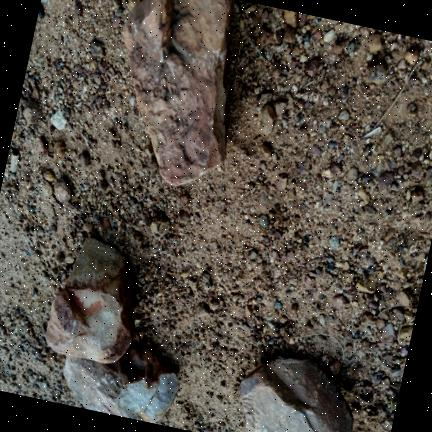Rocks: (123, 0, 232, 184), (45, 237, 134, 362), (63, 341, 178, 422), (240, 355, 352, 431), (260, 103, 275, 134), (365, 60, 386, 82), (376, 322, 397, 344), (150, 213, 170, 236), (22, 99, 40, 123), (54, 176, 70, 202), (50, 109, 67, 129), (355, 277, 376, 292), (332, 37, 348, 56), (367, 32, 382, 52), (404, 46, 419, 64), (259, 25, 272, 45), (378, 170, 393, 187), (305, 56, 319, 74), (9, 148, 19, 172), (89, 40, 104, 56), (397, 324, 413, 339), (410, 160, 423, 178), (332, 293, 347, 308), (397, 289, 411, 305), (283, 10, 297, 26), (380, 129, 393, 146), (37, 135, 48, 155), (53, 140, 64, 160), (356, 187, 369, 203), (344, 166, 357, 182), (283, 25, 295, 42), (275, 173, 287, 189), (274, 99, 286, 115), (195, 302, 209, 315), (329, 161, 342, 175), (410, 188, 423, 202), (259, 142, 271, 156), (257, 213, 269, 227), (148, 157, 157, 175), (178, 209, 189, 223), (78, 151, 89, 165), (329, 359, 339, 374), (42, 169, 54, 181), (328, 234, 339, 247), (338, 108, 349, 120), (323, 29, 334, 41), (97, 179, 107, 191), (127, 0, 140, 9), (364, 203, 375, 213), (318, 313, 327, 325), (362, 382, 371, 394), (74, 0, 82, 13), (426, 166, 431, 184), (248, 248, 257, 258), (38, 4, 44, 17), (347, 40, 354, 51), (429, 71, 431, 79)
